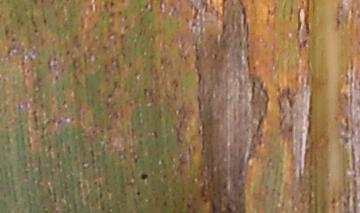tarspot: (207, 196, 217, 213), (3, 23, 10, 40), (334, 16, 341, 31), (184, 201, 193, 210), (140, 172, 148, 182), (109, 1, 116, 11), (221, 180, 228, 190), (64, 48, 72, 56), (41, 17, 48, 25), (32, 27, 39, 34), (9, 36, 16, 43), (161, 200, 167, 208), (25, 66, 30, 75), (135, 190, 141, 196)
